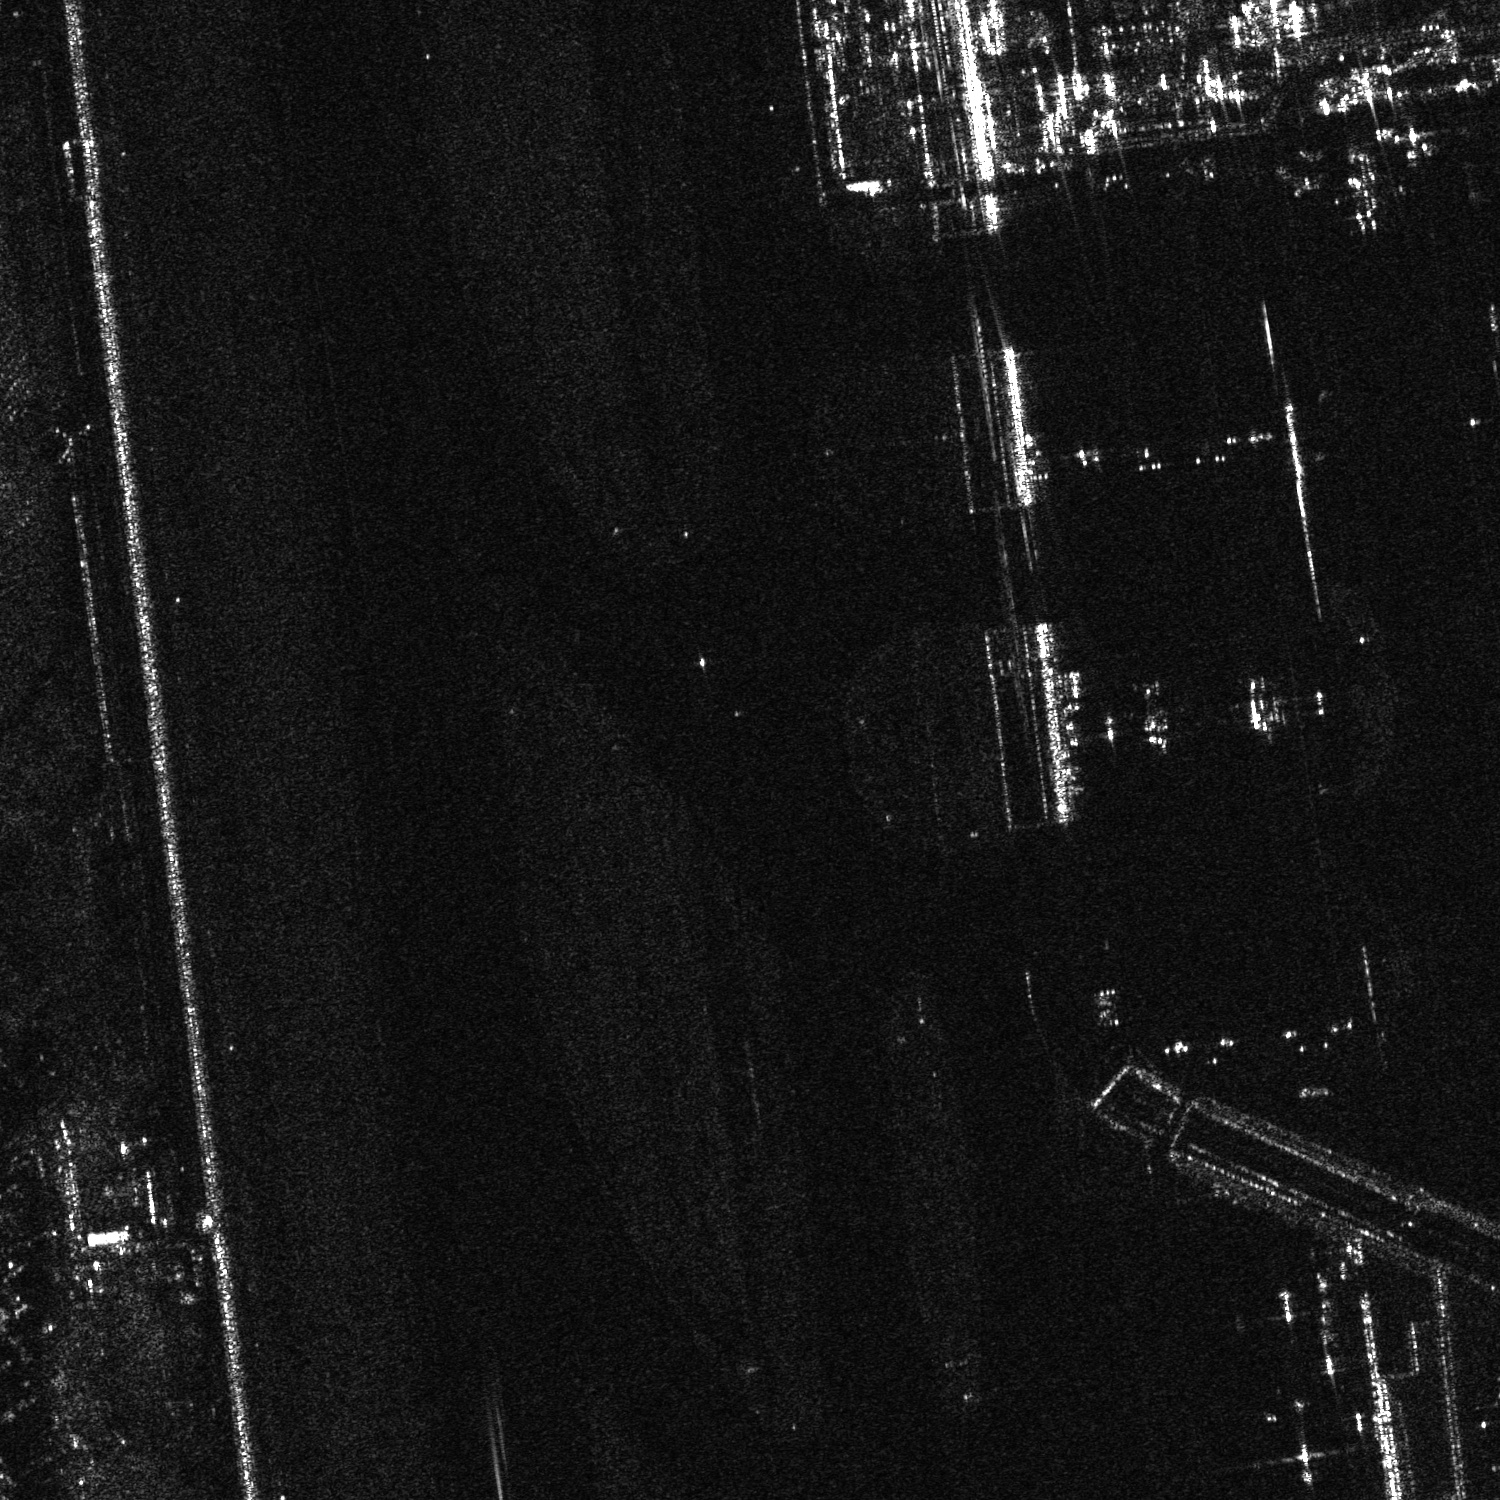Boeing787: (1306, 146, 1413, 236)
